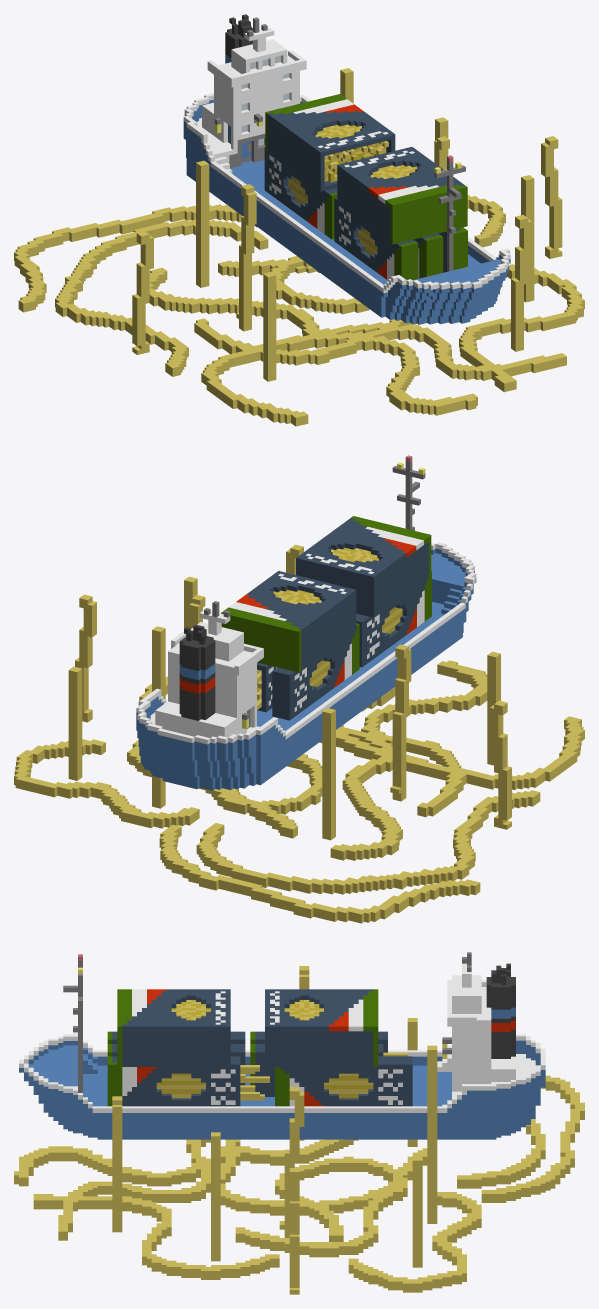
The model's file is spaghetti-1.obj.
3 views of the same model, one above another, from view 1: azimuth 30°, elevation 25°; view 2: azimuth 150°, elevation 25°; view 3: azimuth 270°, elevation 25° (orthographic). The views are drawn at different scales.
Visible parts, largest first — view 1: spaghetti-1; view 2: spaghetti-1; view 3: spaghetti-1.
Part boxes in pixels (left/top/right/bottom): spaghetti-1: left=14, top=14, right=584, bottom=426; spaghetti-1: left=14, top=455, right=584, bottom=923; spaghetti-1: left=14, top=952, right=584, bottom=1294.
Size of the model in its own units: 111 by 52 by 116.
Materials: 1 (1 with a texture image).
